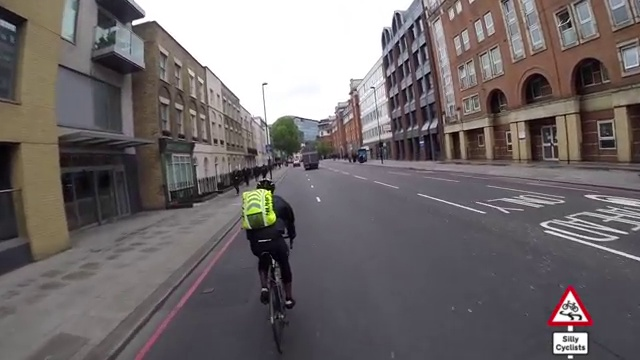cyclist_back: (237, 176, 297, 353)
